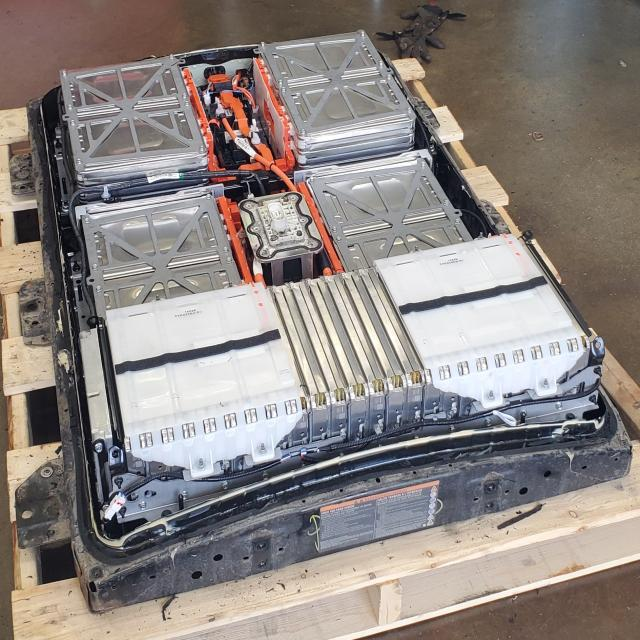Battery Module: (379, 234, 575, 359), (96, 199, 224, 307), (74, 58, 194, 163)
Bolt: (110, 445, 124, 464), (180, 488, 193, 507), (259, 471, 273, 485), (440, 196, 452, 211), (357, 29, 370, 42), (334, 234, 348, 246), (166, 50, 177, 65), (68, 119, 80, 132), (81, 214, 93, 227), (136, 502, 150, 513), (554, 401, 568, 412), (222, 256, 237, 266), (447, 423, 459, 435), (93, 283, 105, 295), (74, 155, 85, 168), (330, 221, 341, 234), (204, 190, 215, 203), (90, 259, 101, 272), (218, 482, 232, 492), (518, 410, 532, 420), (218, 243, 232, 253), (376, 57, 387, 69), (416, 158, 428, 169), (93, 442, 104, 454), (383, 72, 396, 82), (404, 105, 414, 118), (197, 143, 207, 155), (306, 174, 316, 186), (258, 39, 268, 50), (482, 417, 494, 426), (178, 91, 190, 100), (65, 103, 76, 112), (183, 100, 193, 109), (454, 219, 463, 229), (60, 69, 68, 80), (280, 85, 289, 94), (339, 449, 346, 460), (299, 128, 307, 137), (276, 77, 285, 85), (291, 381, 296, 388)
Bus-bar: (252, 56, 295, 165), (298, 183, 345, 274), (184, 70, 225, 174), (218, 198, 253, 284)
Cable: (224, 113, 301, 193), (220, 91, 272, 160)
Nut: (109, 289, 291, 424), (268, 33, 405, 132), (322, 164, 455, 265), (148, 287, 169, 306), (110, 473, 129, 492), (412, 240, 428, 260), (587, 388, 601, 409), (485, 387, 498, 408), (256, 442, 274, 456), (69, 258, 84, 274), (592, 362, 606, 379), (192, 459, 208, 471), (540, 377, 552, 391), (60, 197, 70, 211), (54, 137, 63, 151), (55, 122, 62, 131), (292, 383, 296, 391)
